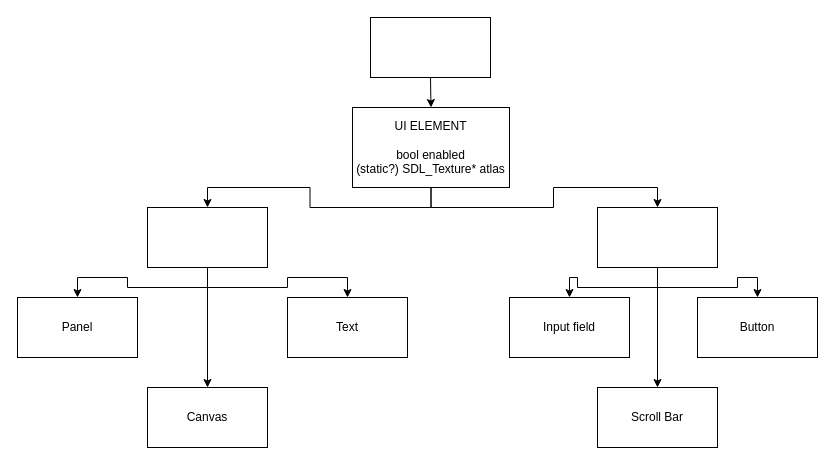
Image size: 835x465. Some labels were removed from this diagram. The centre of each missing label's shape, as x and y in pixels:
Dynamic Element void OnClick(): (x=657, y=237)
Static Element: (x=207, y=237)
UI: (x=430, y=47)
